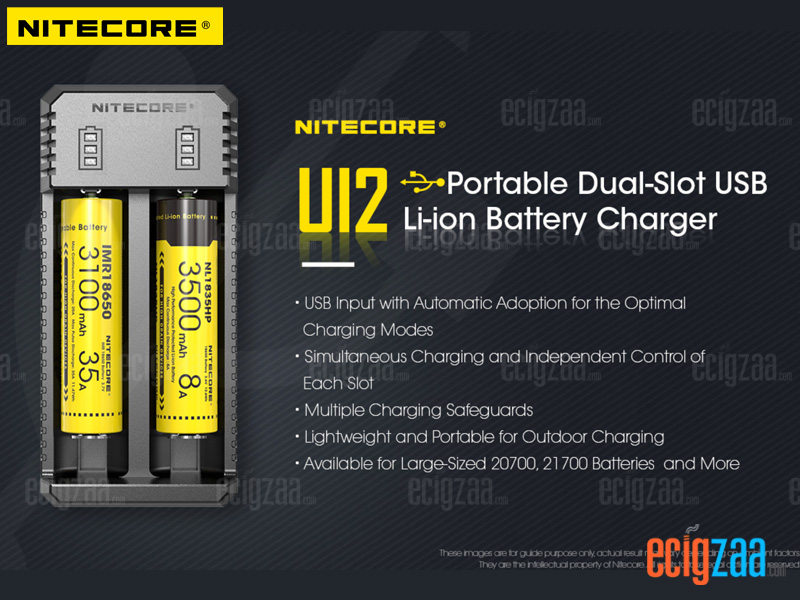Battery: (147, 190, 226, 437), (56, 192, 127, 436)
